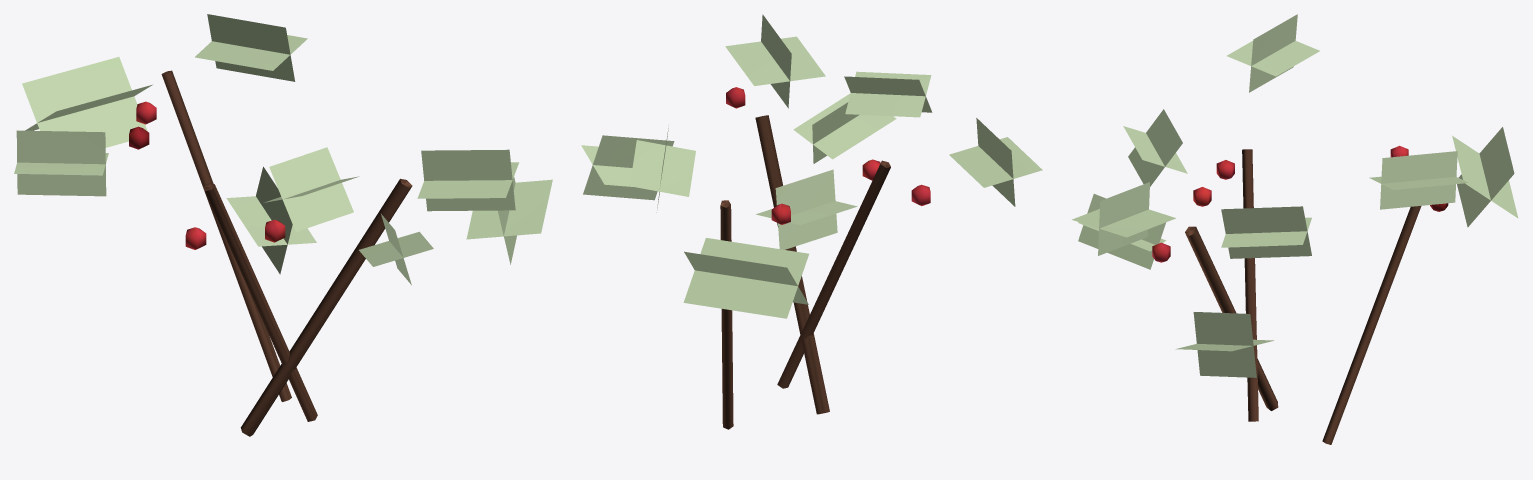
Rendered from small-lod2.glb.
3 renders of one model, left to right at view 1: azimuth 30°, elevation 25°; view 2: azimuth 150°, elevation 25°; view 3: azimuth 270°, elevation 25°, orthographic. The views are drawn at different scales.
Visible parts, largest first — view 1: redberry-leaf-sprays, redberry-buried-stems-ground-blend-and-fruit; view 2: redberry-leaf-sprays, redberry-buried-stems-ground-blend-and-fruit; view 3: redberry-leaf-sprays, redberry-buried-stems-ground-blend-and-fruit.
Boxes of the visible parts, x1,y1,x2,y2 form: redberry-leaf-sprays: (14,14,552,285); redberry-buried-stems-ground-blend-and-fruit: (129,70,412,436); redberry-leaf-sprays: (581,14,1042,318); redberry-buried-stems-ground-blend-and-fruit: (720,87,930,429); redberry-leaf-sprays: (1072,14,1518,377); redberry-buried-stems-ground-blend-and-fruit: (1152,145,1448,444).
Size of the model in its own units: 1.39 by 0.9165 by 1.2.
